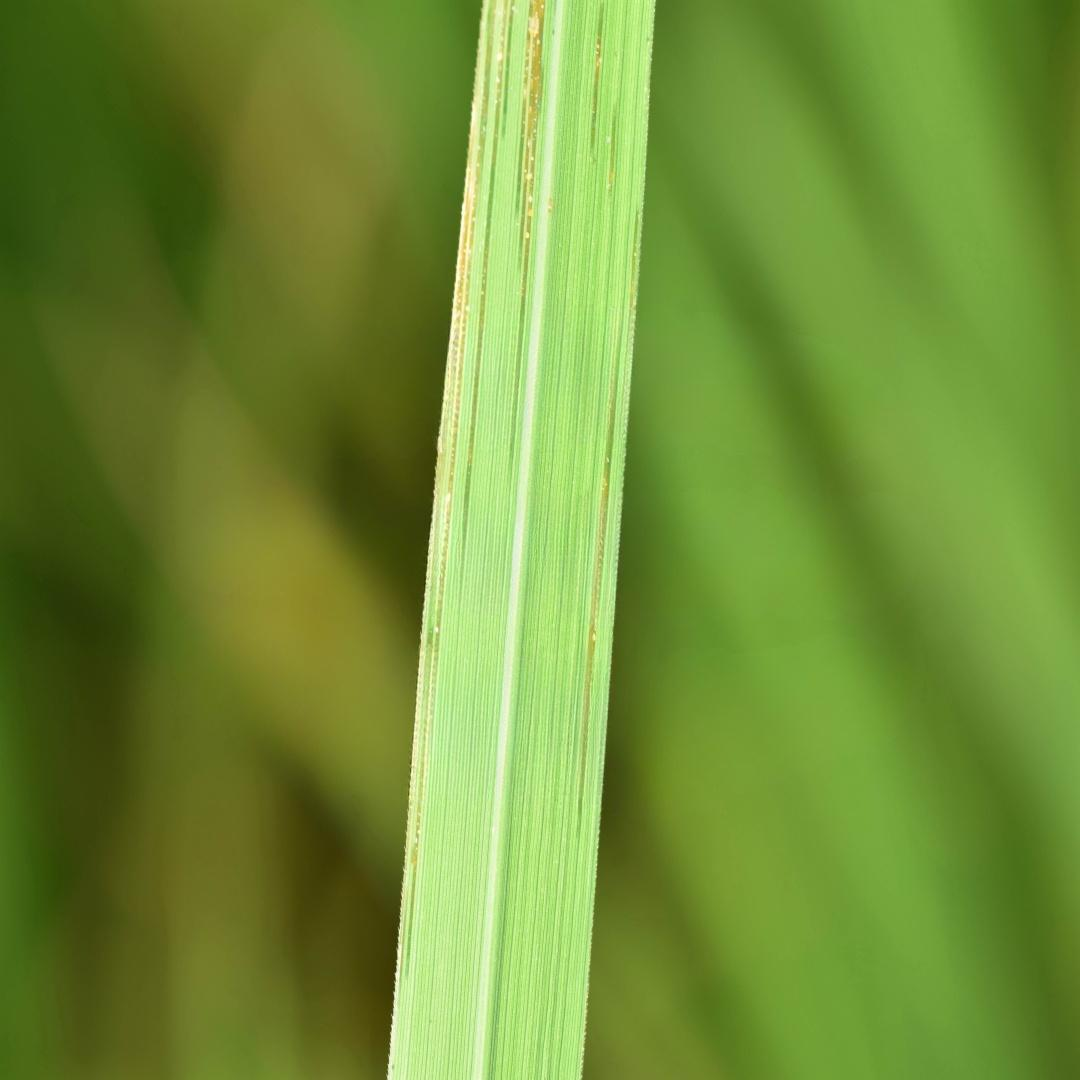BLS: (399, 0, 497, 978), (460, 0, 507, 581), (576, 299, 623, 842), (508, 0, 546, 475), (500, 1, 516, 162), (591, 1, 604, 160), (630, 210, 639, 307), (610, 113, 616, 195)
LEAF: (389, 0, 653, 1079)
